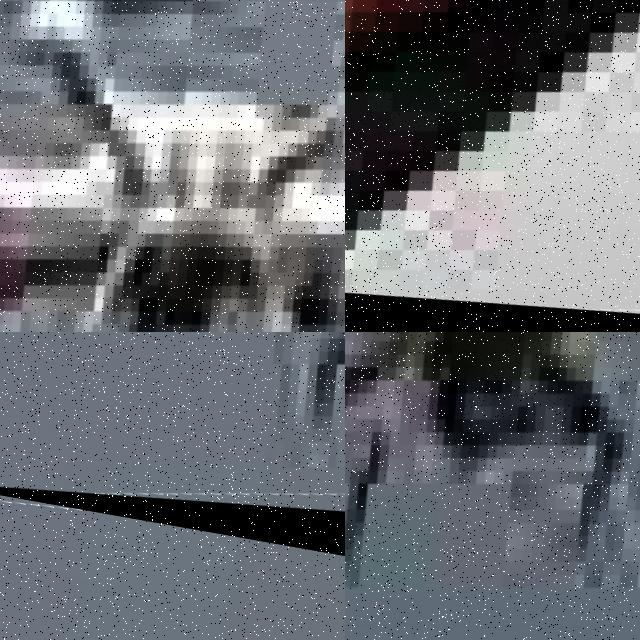0: (0, 0, 345, 332), (345, 332, 640, 640), (0, 332, 345, 575)
drone: (345, 0, 640, 332)
